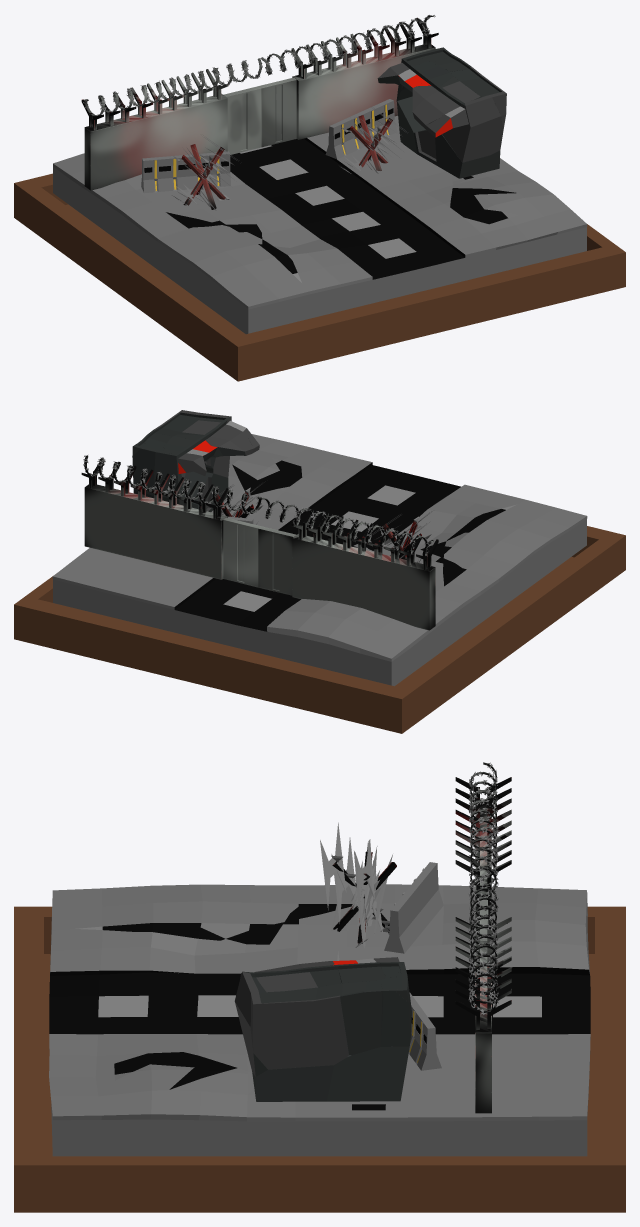
The model's file is Level 1.fbx.
3 renders of one model, top to bottom at view 1: azimuth 30°, elevation 25°; view 2: azimuth 150°, elevation 25°; view 3: azimuth 270°, elevation 25°, orthographic. The views are drawn at different scales.
Parts seen in each view (by area): view 1: Cube.002, board002, Walls, Cube.001_cell, RaodBlock 2.001, Fence, Gate.001, Gate, RaodBlock 2.002, Raod Block.001, Raod Block; view 2: Cube.002, board002, Walls, Cube.001_cell, Fence, Gate.001, Gate; view 3: Cube.002, board002, Cube.001_cell, Walls, Fence, RaodBlock 2.001, RaodBlock 2.002, Raod Block.001, Raod Block.001|Cube|Dupli|8.
Part boxes in pixels (x1,y1,x2,y2): Cube.002: [53, 115, 587, 334]; board002: [14, 173, 625, 381]; Walls: [81, 18, 438, 190]; Cube.001_cell: [377, 47, 506, 178]; RaodBlock 2.001: [141, 151, 230, 193]; Fence: [84, 15, 433, 115]; Gate.001: [258, 77, 296, 147]; Gate: [223, 86, 261, 154]; RaodBlock 2.002: [325, 99, 397, 159]; Raod Block.001: [181, 144, 225, 209]; Raod Block: [350, 115, 392, 170]; Cube.002: [52, 434, 587, 686]; board002: [14, 526, 625, 733]; Walls: [81, 457, 438, 630]; Cube.001_cell: [132, 410, 259, 512]; Fence: [84, 456, 433, 556]; Gate.001: [223, 517, 260, 587]; Gate: [258, 526, 296, 595]; Cube.002: [49, 884, 590, 1156]; board002: [14, 906, 625, 1212]; Cube.001_cell: [234, 957, 411, 1101]; Walls: [455, 777, 511, 1113]; Fence: [470, 762, 496, 1012]; RaodBlock 2.001: [384, 862, 443, 953]; RaodBlock 2.002: [408, 992, 441, 1070]; Raod Block.001: [332, 851, 396, 943]; Raod Block.001|Cube|Dupli|8: [320, 822, 346, 910].
Bounding box in the file's own units: 30.62 × 30.61 × 11.44.
